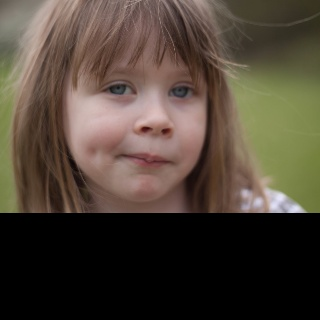without_mask: (0, 0, 320, 213)
